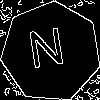N: (26, 27, 68, 78)
